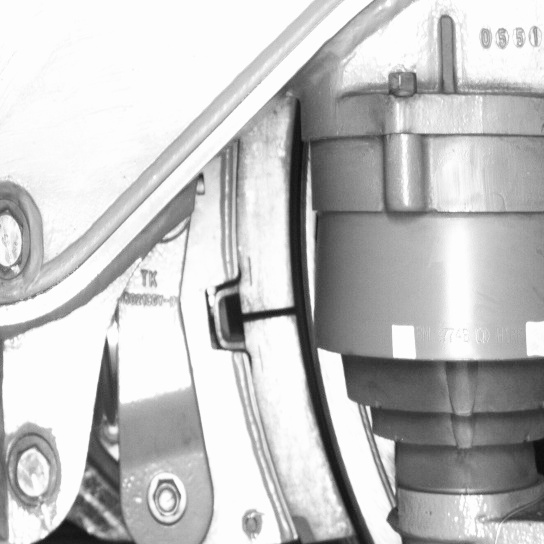KnifeSwitch: (243, 136, 376, 541)
